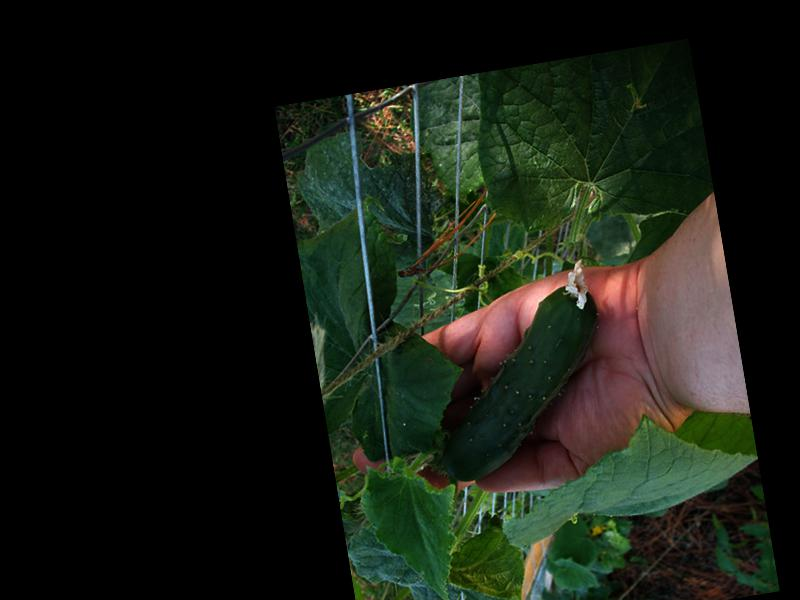Cucumber: (414, 256, 620, 483)
